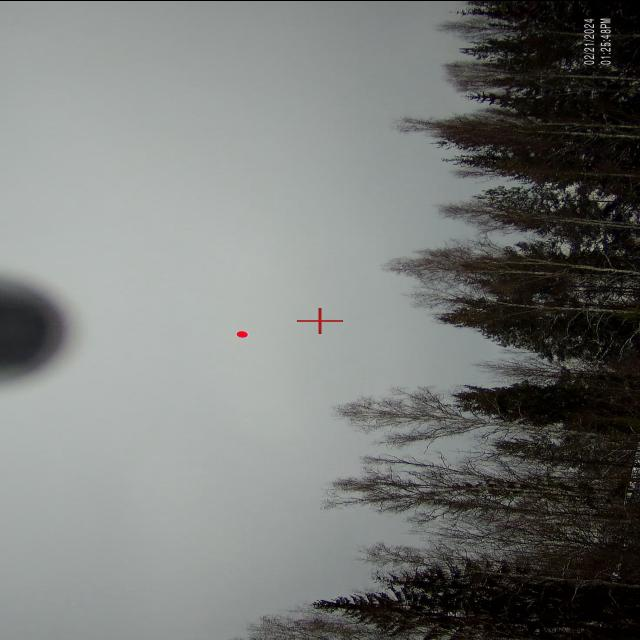entire: (233, 326, 252, 344)
